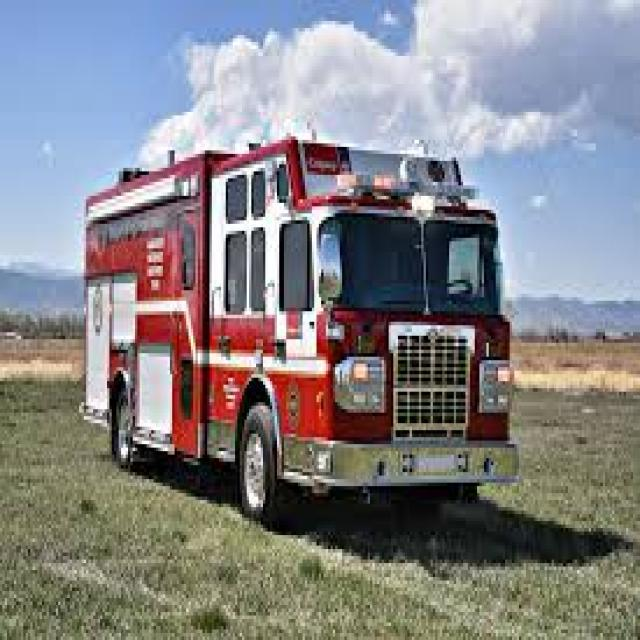Firetruck: (74, 123, 532, 549)
